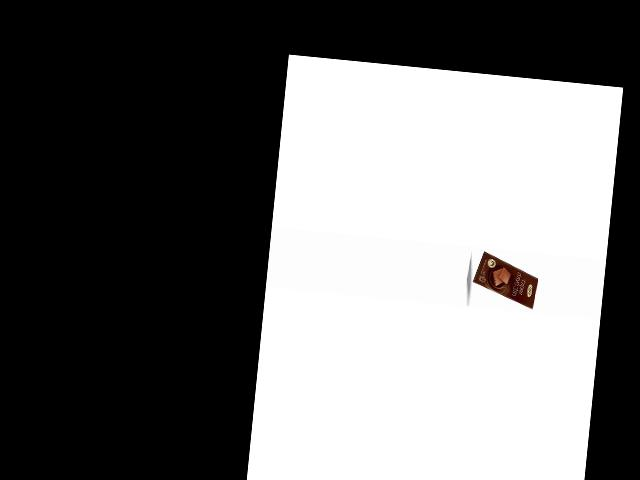chocolate: (467, 248, 541, 310)
